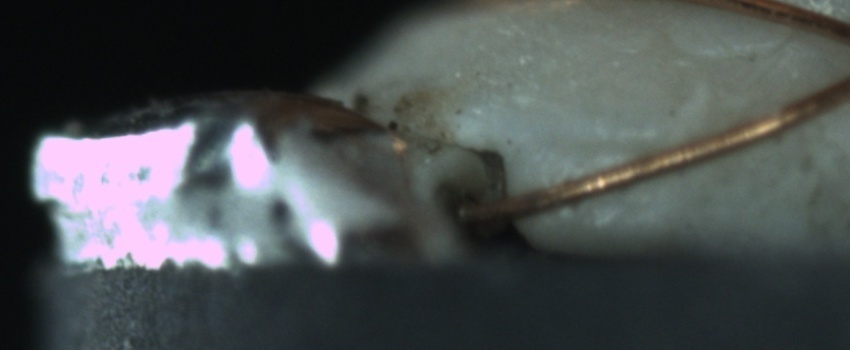DL: (545, 111, 682, 175)
